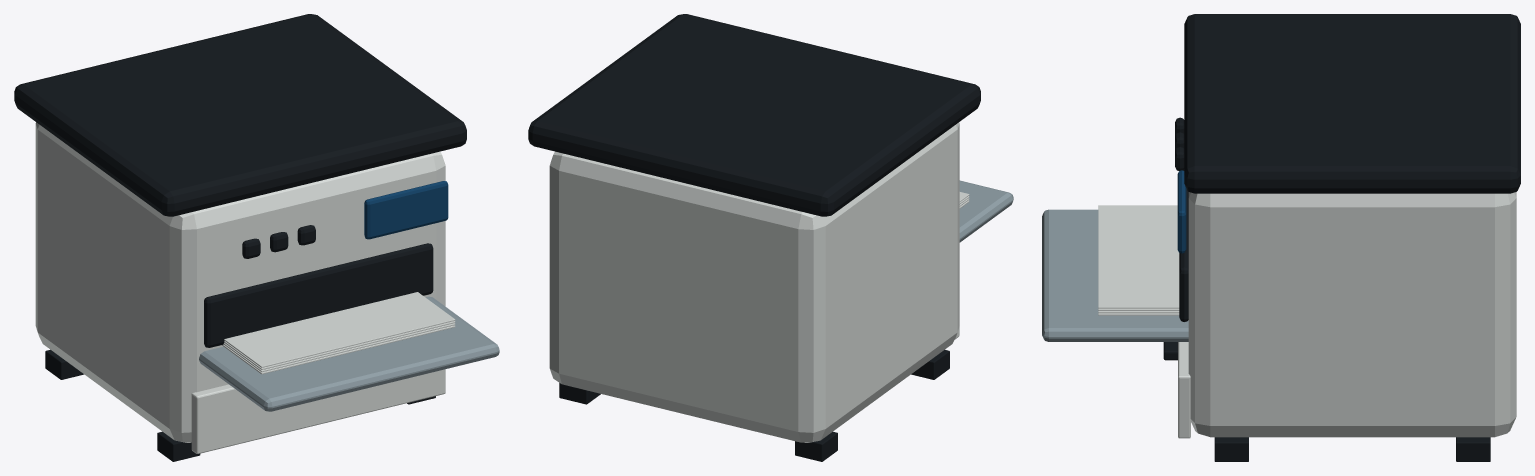
Rendered from edited.glb.
The picture shows the model from 3 angles, left to right: view 1: azimuth 30°, elevation 25°; view 2: azimuth 150°, elevation 25°; view 3: azimuth 270°, elevation 25°; orthographic projection. The views are drawn at different scales.
Parts seen in each view (by area): view 1: BODY, SCANNER_Lid, OUTPUT_Tray, OUTPUT_Slot, PAPER_Drawer, PAPER_Sheet.003, CONTROL_Display, FOOT_Pad, PAPER_Sheet, PAPER_Sheet.001, PAPER_Sheet.002, FOOT_Pad.001; view 2: BODY, SCANNER_Lid, OUTPUT_Tray, FOOT_Pad.001, FOOT_Pad, FOOT_Pad.003; view 3: BODY, SCANNER_Lid, OUTPUT_Tray, PAPER_Sheet.003, PAPER_Drawer, OUTPUT_Slot, FOOT_Pad.002, FOOT_Pad.003, CONTROL_Display.
Part boxes in pixels (x1,y1,x2,y2): BODY: (35,122,445,442); SCANNER_Lid: (14,14,466,216); OUTPUT_Tray: (199,296,499,411); OUTPUT_Slot: (204,243,433,347); PAPER_Drawer: (191,369,445,453); PAPER_Sheet.003: (224,292,455,367); CONTROL_Display: (364,181,448,239); FOOT_Pad: (157,431,200,461); PAPER_Sheet: (222,325,455,374); PAPER_Sheet.001: (223,323,455,372); PAPER_Sheet.002: (224,321,455,369); FOOT_Pad.001: (45,349,83,379); BODY: (549,122,959,442); SCANNER_Lid: (528,14,980,216); OUTPUT_Tray: (959,180,1013,242); FOOT_Pad.001: (795,431,837,461); FOOT_Pad: (911,350,949,379); FOOT_Pad.003: (559,383,600,404); BODY: (1188,192,1516,437); SCANNER_Lid: (1184,14,1520,193); OUTPUT_Tray: (1042,209,1188,341); PAPER_Sheet.003: (1098,205,1179,308); PAPER_Drawer: (1178,342,1190,438); OUTPUT_Slot: (1179,169,1188,321); FOOT_Pad.002: (1214,437,1248,461); FOOT_Pad.003: (1456,437,1490,461); CONTROL_Display: (1177,170,1186,253).
Bounding box in the file's own units: 0.44 × 0.3875 × 0.555.
